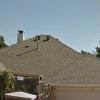Chimney: (12, 21, 29, 48)
